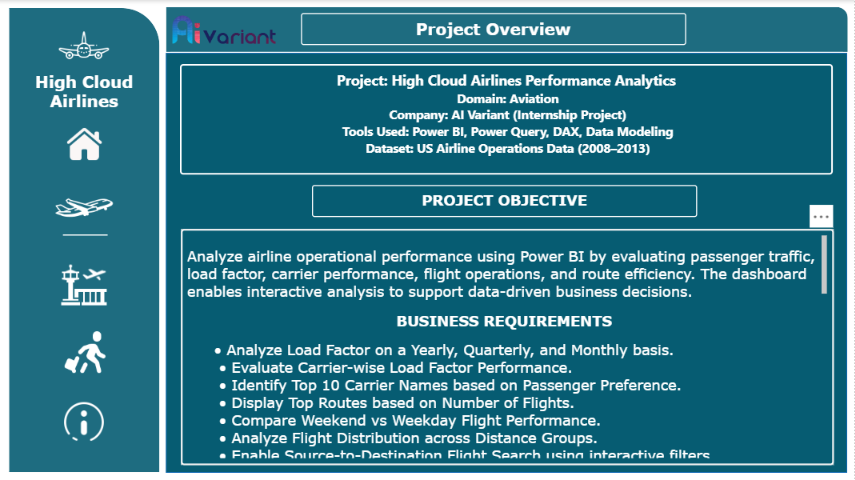

Layout of this report page (visuals, bound fields, positions):
{"tool":"powerbi","page":{"name":"Project-Overview","canvas":[1280,720],"ordinal":0},"visuals":[{"type":"shape","box":[248.2,9.8,1021.1,67.3],"z":0},{"type":"textbox","box":[451.4,20,576.7,48.3],"z":1000},{"type":"shape","box":[13.6,12.2,225.4,695.1],"z":2000},{"type":"image","box":[86.3,182.9,79.5,70.1],"z":3000},{"type":"image","box":[59.3,275.9,133.4,88.9],"z":4000},{"type":"image","box":[79.5,387.8,93,75.5],"z":5000},{"type":"image","box":[80.9,490.2,91.6,75.5],"z":6000},{"type":"image","box":[91.6,598.4,68.7,66],"z":7000},{"type":"textbox","box":[13.5,103.8,225.1,78.2],"z":8000},{"type":"image","box":[33.7,32.3,186,75.5],"z":9000},{"type":"shape","box":[248.6,80,1020,628.6],"z":10000},{"type":"textbox","box":[467.1,276.4,577.2,47.7],"z":11000},{"type":"textbox","box":[270,95.6,977.8,165.6],"z":12000},{"type":"textbox","box":[270.4,342.2,977.8,353.7],"z":13000},{"type":"image","box":[248.2,12.2,168.8,67.3],"z":14000}]}

Visuals, with their boxes in screenshot pixels (x1, y1, x2, y2), scaled from the page's 1280x720 canvas onto the 855x480 screenshot:
shape: detection(166, 7, 848, 51)
textbox: detection(302, 13, 687, 46)
shape: detection(9, 8, 160, 472)
image: detection(58, 122, 111, 169)
image: detection(40, 184, 129, 243)
image: detection(53, 259, 115, 309)
image: detection(54, 327, 115, 377)
image: detection(61, 399, 107, 443)
textbox: detection(9, 69, 159, 121)
image: detection(23, 22, 147, 72)
shape: detection(166, 53, 847, 472)
textbox: detection(312, 184, 698, 216)
textbox: detection(180, 64, 833, 174)
textbox: detection(181, 228, 834, 464)
image: detection(166, 8, 279, 53)
